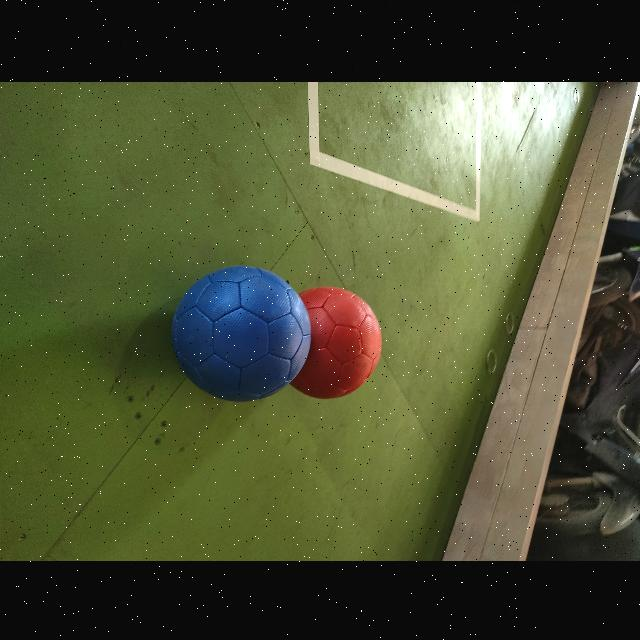B: (172, 265, 311, 400)
R: (291, 285, 382, 396)
